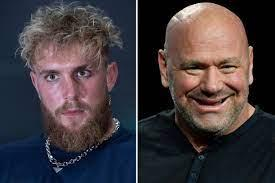Persons: (18, 0, 117, 156), (158, 1, 264, 140)
